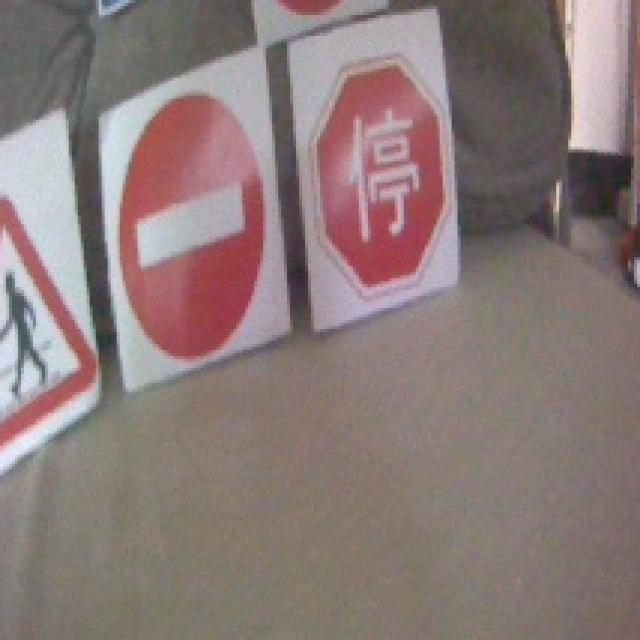DoNotEnterSign: (116, 88, 268, 365)
